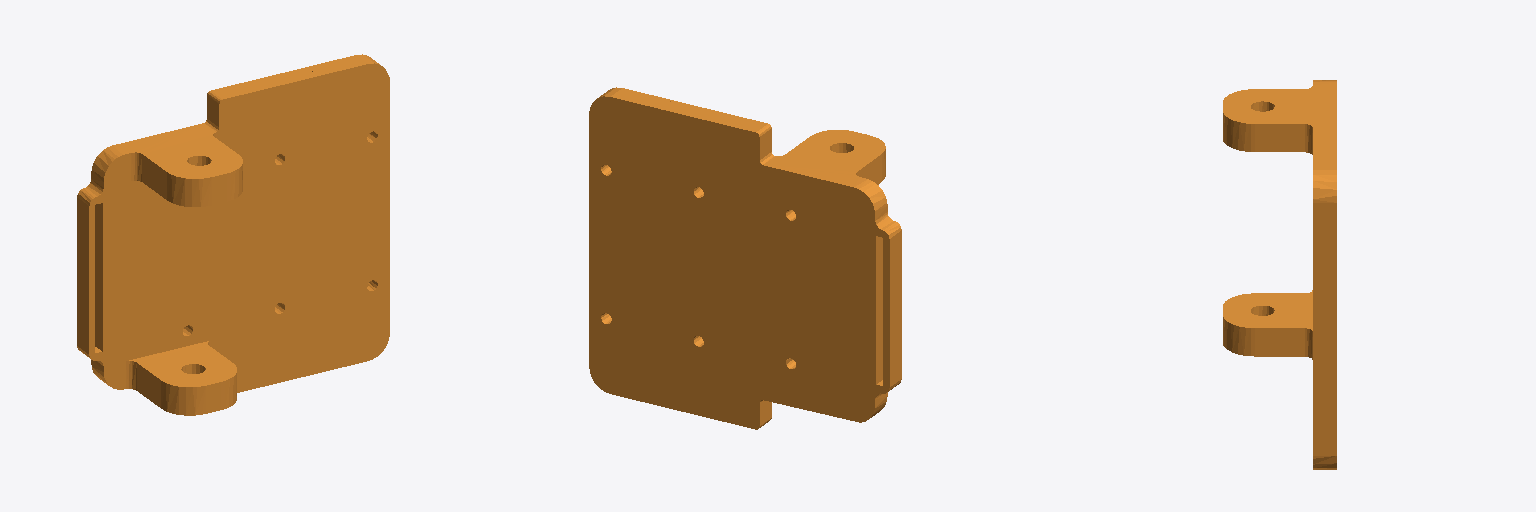
The model's file is tinker.obj.
The picture shows the model from 3 angles: view 1: azimuth 30°, elevation 25°; view 2: azimuth 150°, elevation 25°; view 3: azimuth 270°, elevation 25°; orthographic projection.
Parts seen in each view (by area): view 1: obj_0; view 2: obj_0; view 3: obj_0.
Part boxes in pixels (x1,y1,x2,y2): obj_0: (77, 54, 389, 415); obj_0: (589, 87, 901, 429); obj_0: (1223, 80, 1336, 469).
Bounding box in the file's own units: 42.3 × 39.98 × 14.